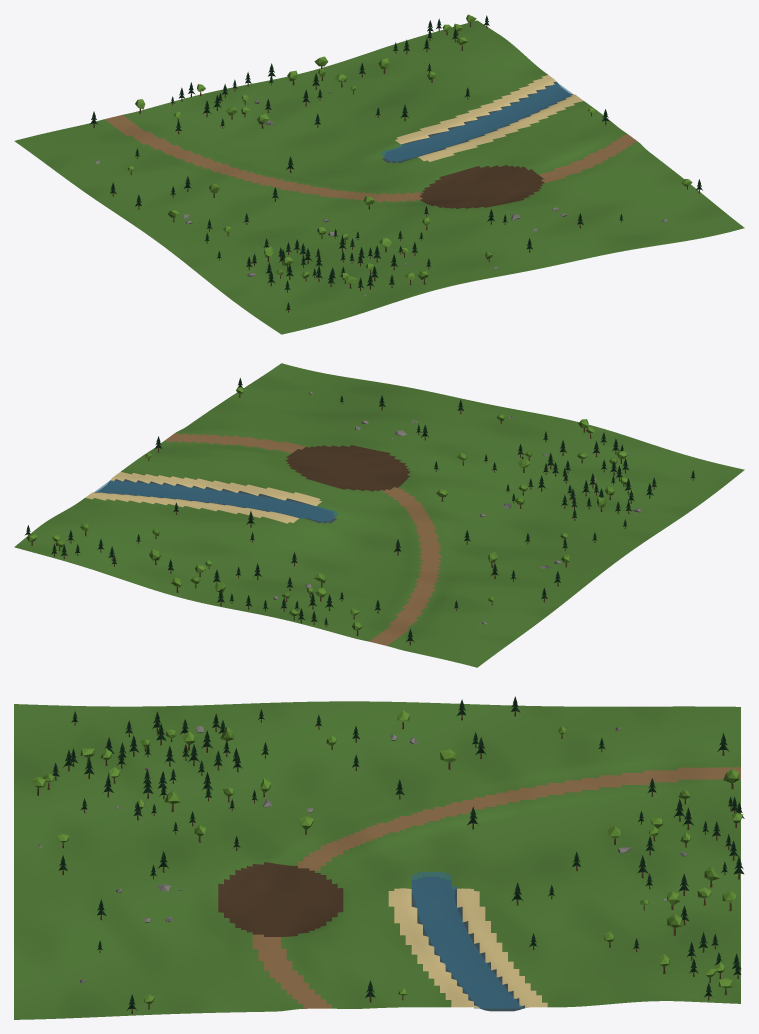
Rendered from chunk_0_1.glb.
3 renders of one model, top to bottom at view 1: azimuth 30°, elevation 25°; view 2: azimuth 150°, elevation 25°; view 3: azimuth 270°, elevation 25°, orthographic. The views are drawn at different scales.
Visible parts, largest first — view 1: Surface_Grass, Surface_Dirt, Surface_Mud, Props_Pines, Surface_Water, Surface_Sand, Water, Props_Leaves, Props_Trunks; view 2: Surface_Grass, Surface_Dirt, Surface_Mud, Props_Pines, Surface_Water, Surface_Sand, Water, Props_Leaves, Props_Trunks; view 3: Surface_Grass, Surface_Dirt, Surface_Mud, Surface_Water, Props_Pines, Water, Surface_Sand, Props_Leaves, Props_Trunks, Props_Rocks.
Boxes of the visible parts, x1,y1,x2,y2 form: Surface_Grass: [14, 20, 744, 334]; Surface_Dirt: [105, 115, 637, 202]; Surface_Mud: [419, 165, 544, 208]; Props_Pines: [89, 15, 702, 310]; Surface_Water: [382, 81, 572, 163]; Surface_Sand: [395, 75, 583, 161]; Water: [380, 82, 572, 161]; Props_Leaves: [127, 14, 692, 284]; Props_Trunks: [93, 22, 699, 312]; Surface_Grass: [14, 363, 744, 667]; Surface_Dirt: [165, 433, 442, 645]; Surface_Mud: [285, 445, 410, 491]; Props_Pines: [25, 378, 695, 642]; Surface_Water: [95, 479, 336, 523]; Surface_Sand: [85, 471, 322, 523]; Water: [94, 480, 338, 521]; Props_Leaves: [26, 387, 633, 630]; Props_Trunks: [28, 393, 693, 645]; Surface_Grass: [14, 701, 740, 1019]; Surface_Dirt: [252, 767, 740, 1008]; Surface_Mud: [218, 862, 343, 936]; Surface_Water: [411, 877, 524, 1011]; Props_Pines: [52, 696, 744, 1010]; Water: [411, 872, 522, 1008]; Surface_Sand: [388, 888, 547, 1008]; Props_Leaves: [31, 710, 743, 1004]; Props_Trunks: [37, 711, 739, 1013]; Props_Rocks: [38, 725, 686, 983].
Size of the model in its own units: 257 by 15.03 by 257.
